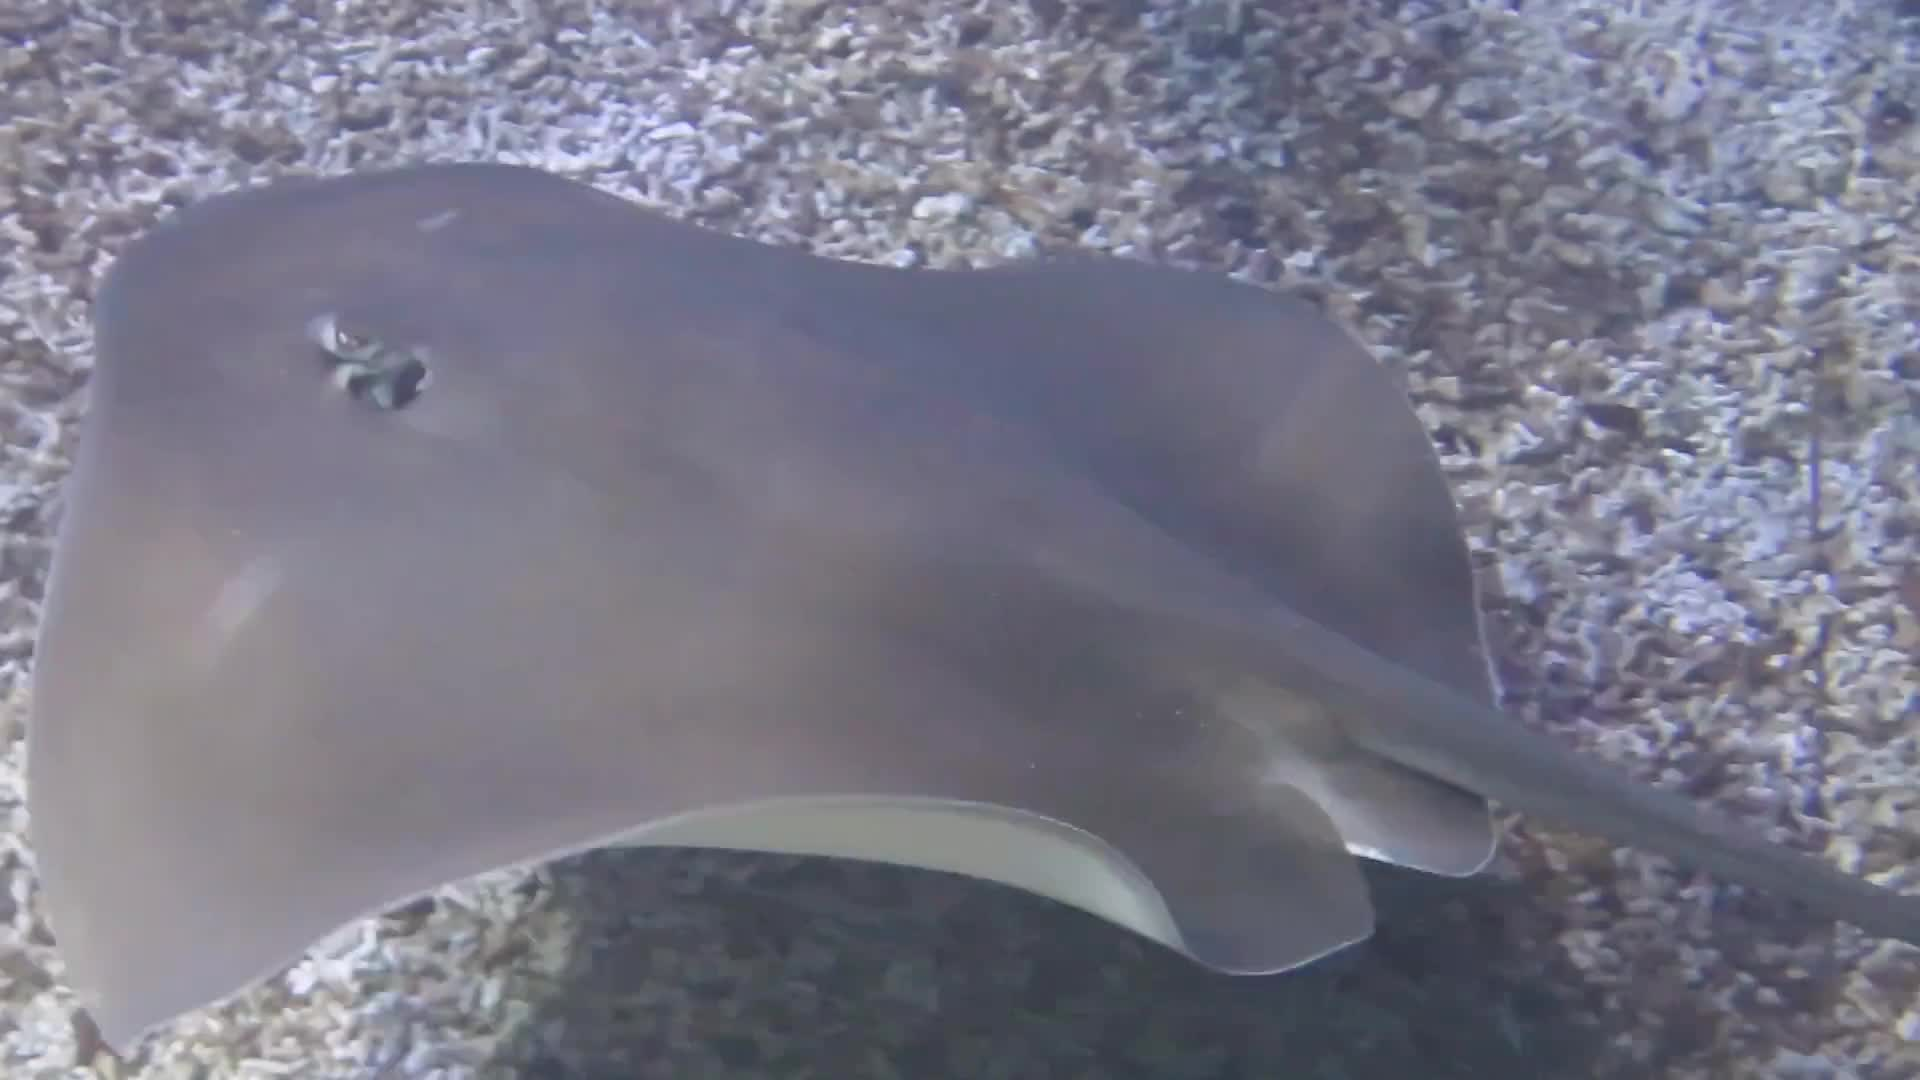Dasyatis akajei: (8, 136, 1920, 1071)
